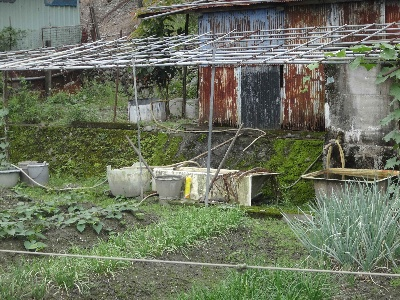bowl: (105, 164, 143, 198)
bucket: (151, 173, 185, 205), (28, 162, 53, 189), (1, 167, 20, 191)
tub: (301, 161, 400, 229), (185, 166, 279, 208)
